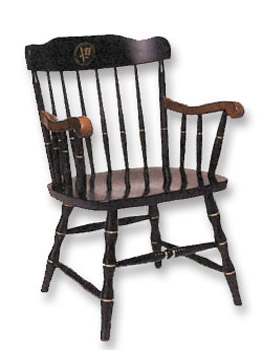chairs: (11, 29, 247, 343)
